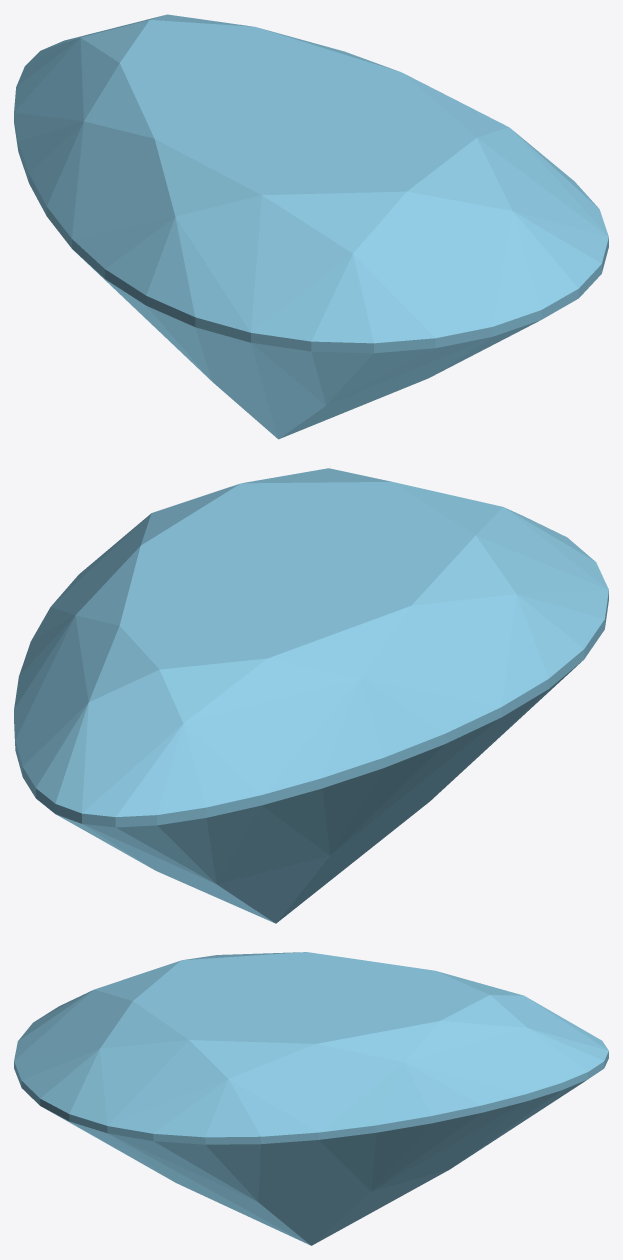
Rendered from stone-topaz.glb.
3 views of the same model, one above another, from view 1: azimuth 30°, elevation 25°; view 2: azimuth 150°, elevation 25°; view 3: azimuth 270°, elevation 25° (orthographic). The views are drawn at different scales.
Visible parts, largest first — view 1: Gemstone Topaz; view 2: Gemstone Topaz; view 3: Gemstone Topaz.
Part boxes in pixels (box(x1,y1,x2,y2)): Gemstone Topaz: box(14, 14, 608, 439); Gemstone Topaz: box(14, 468, 608, 923); Gemstone Topaz: box(14, 952, 608, 1245).
Bounding box in the file's own units: 1.63 × 1.18 × 2.56.
